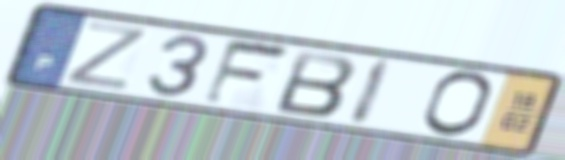3: (145, 33, 212, 99)
B: (272, 47, 360, 119)
F: (198, 36, 295, 108)
I: (345, 56, 397, 129)
O: (418, 68, 497, 140)
Z: (60, 19, 152, 93)
